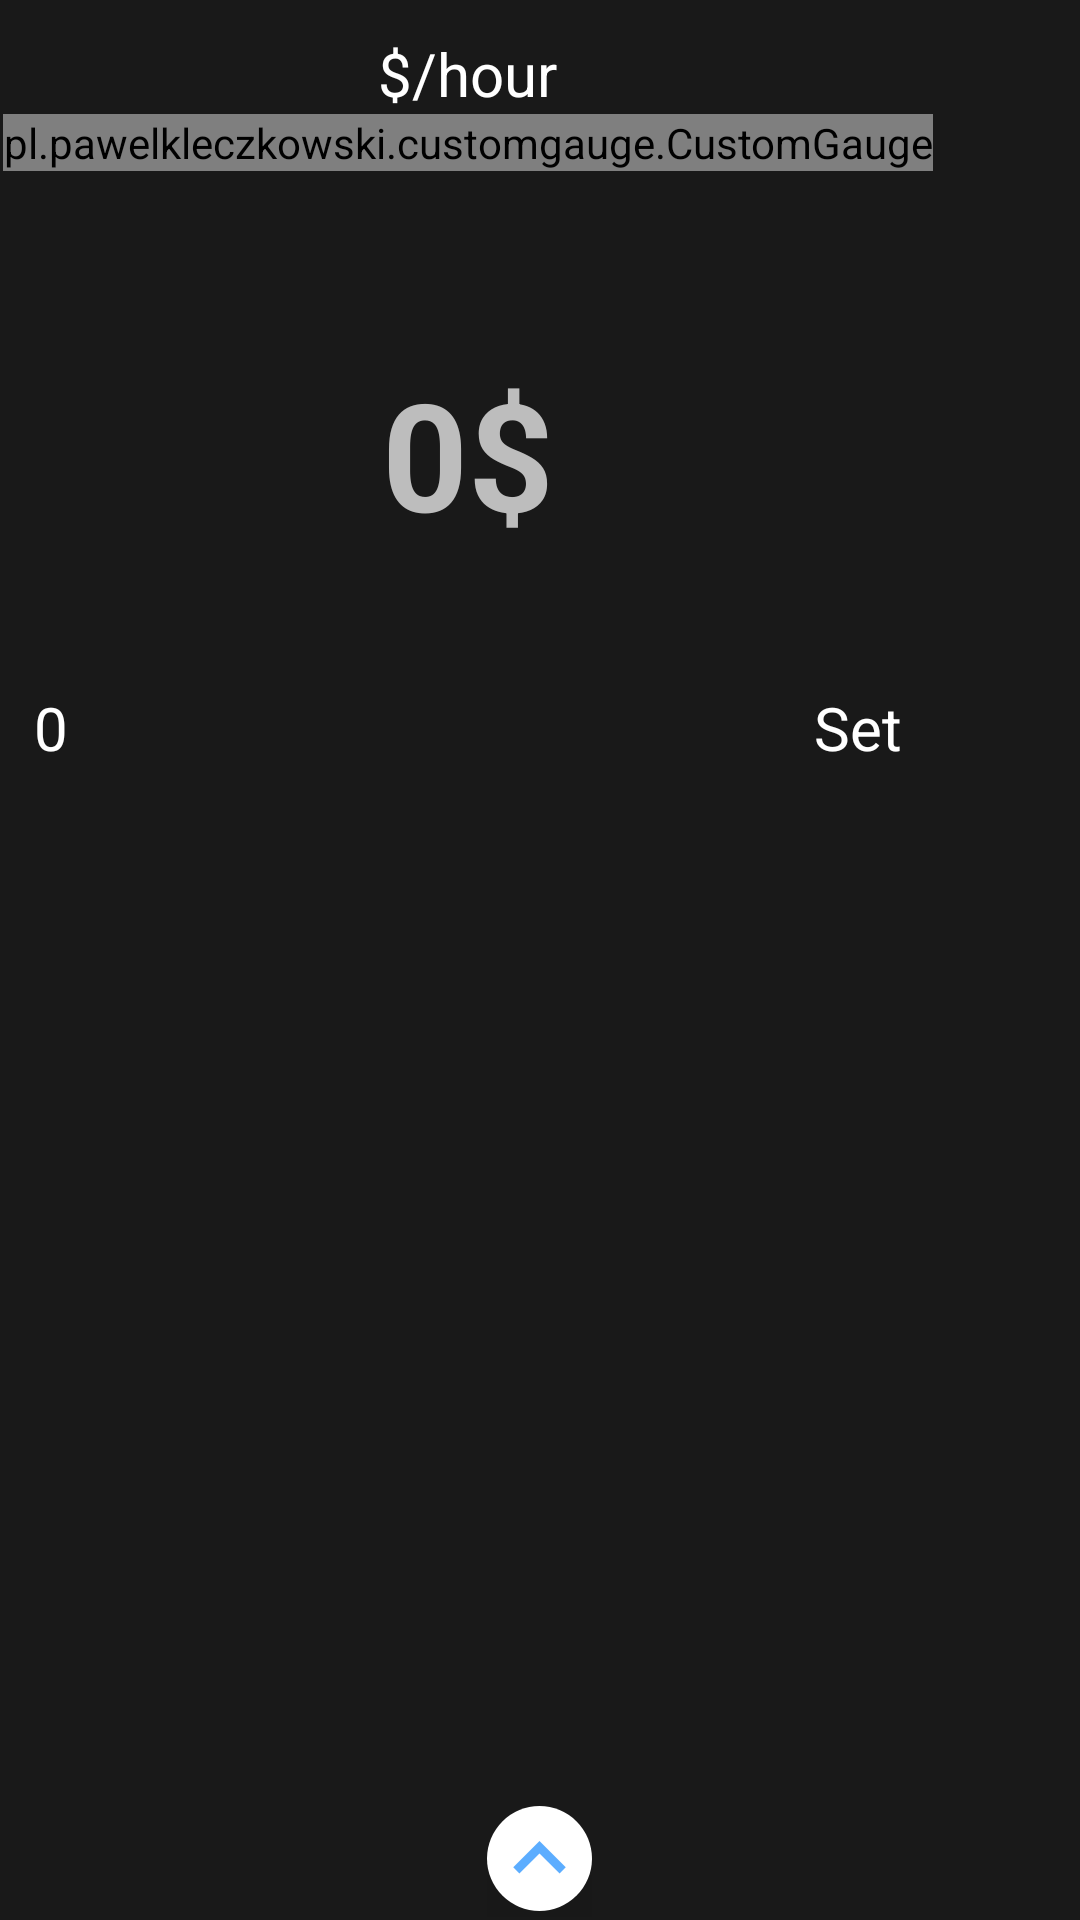

Named icons in this screenshot (1080*1920) and their bounding boxes, (x1, y1, x2, y2):
to up: (487, 1806, 592, 1911)
